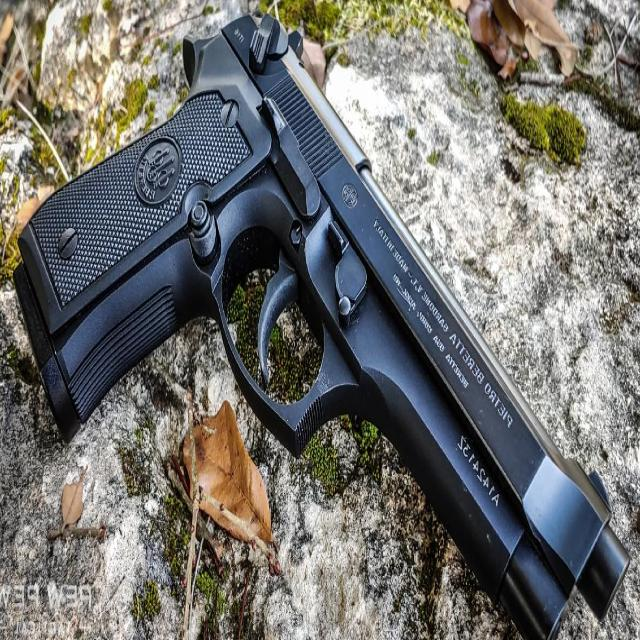Gun: (11, 9, 629, 640)
